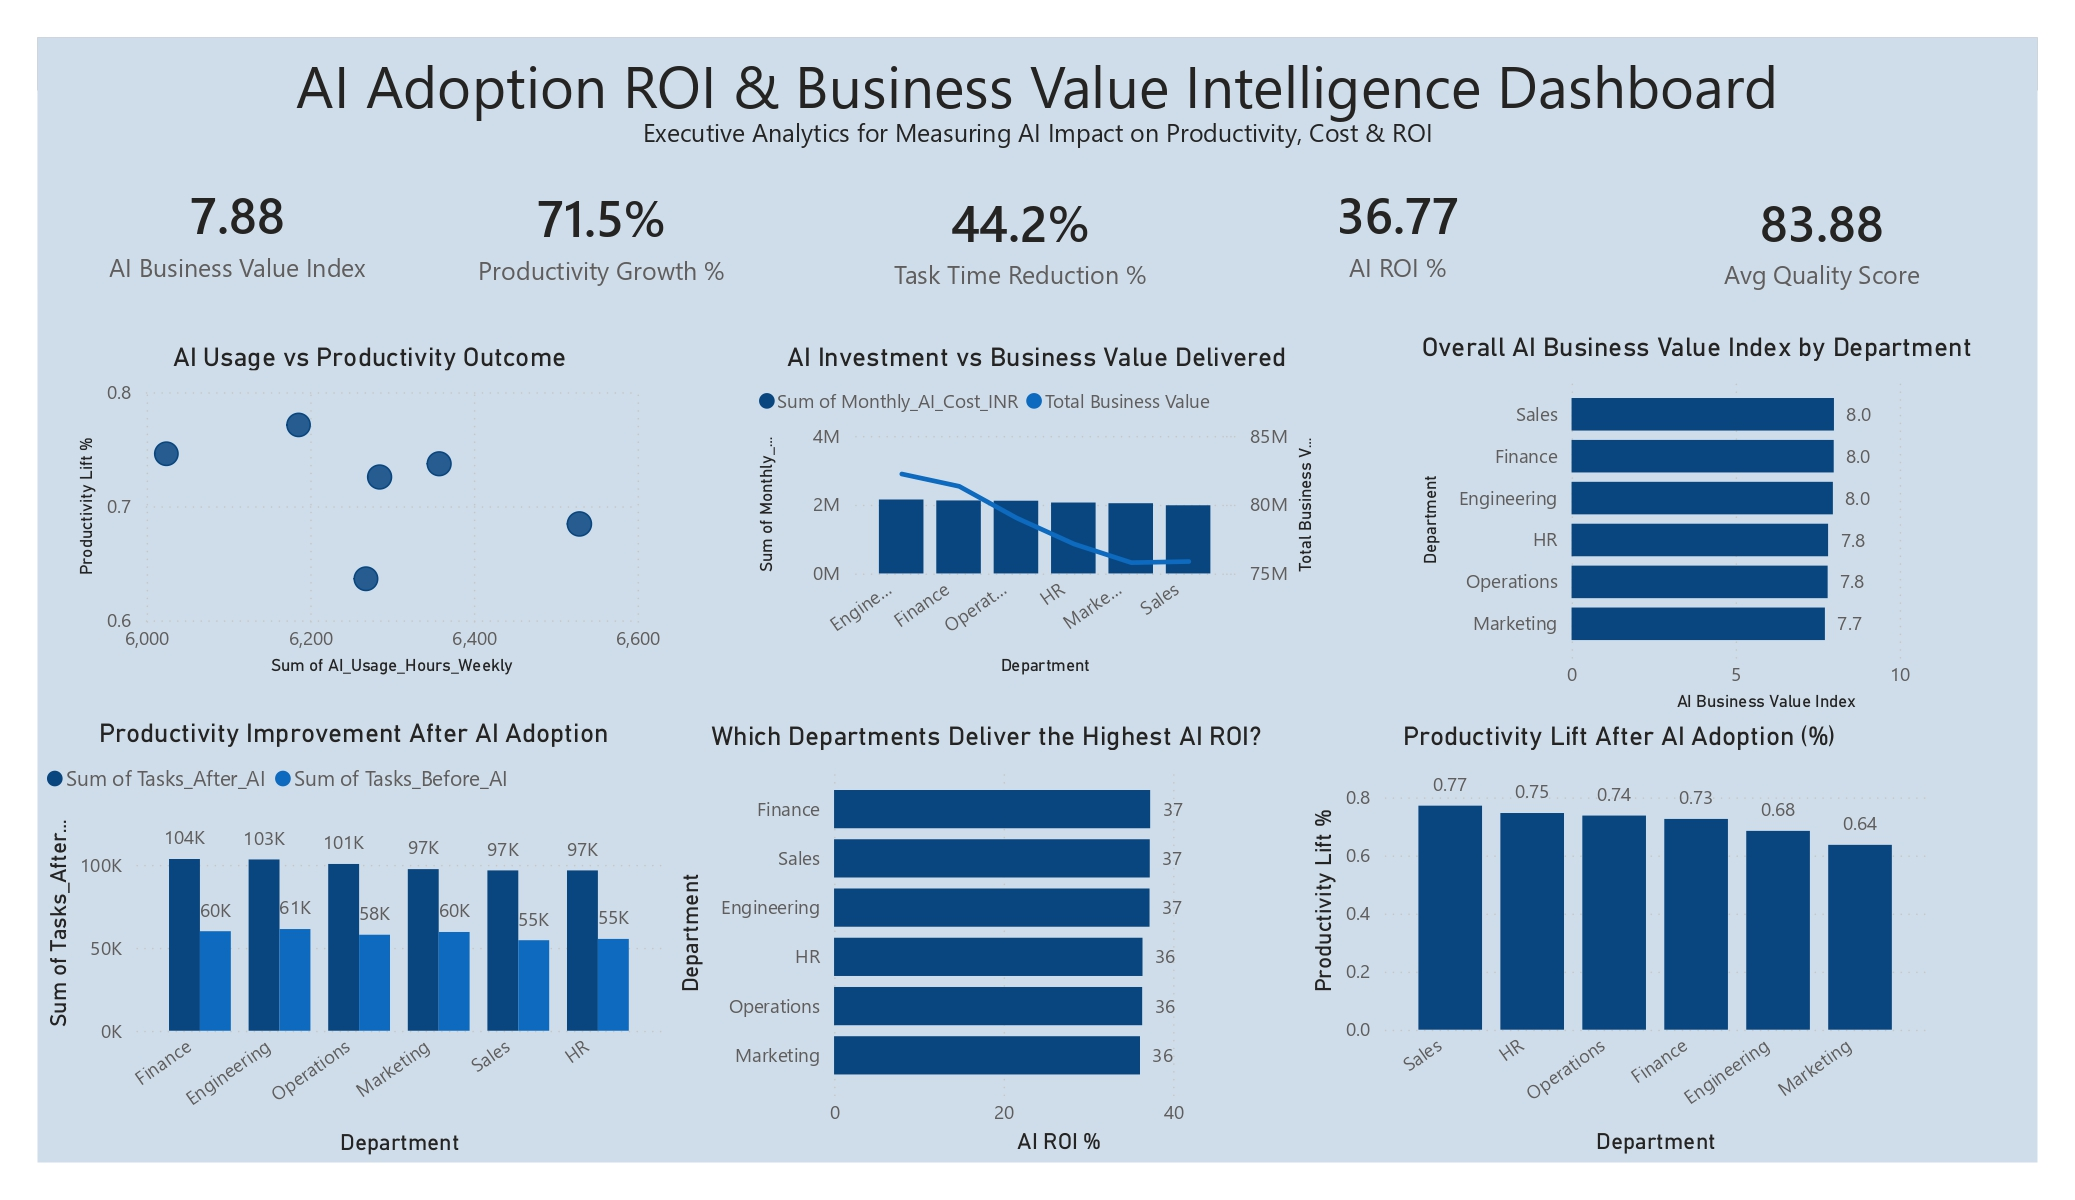

The dashboard page shown, as its layout file describes it:
{"tool":"powerbi","page":{"name":"Page 1","canvas":[1280,720],"ordinal":0},"visuals":[{"type":"cardVisual","fields":{"Data":["Sheet1.AI Business Value Index"]},"box":[12.1,60.3,232.8,129.1],"z":0},{"type":"cardVisual","fields":{"Data":["Sheet1.Productivity Growth %"]},"box":[244.9,61.5,232.8,129.1],"z":1000},{"type":"cardVisual","fields":{"Data":["Sheet1.Task Time Reduction %"]},"box":[511.5,65.1,234,129.1],"z":2000},{"type":"cardVisual","fields":{"Data":["Sheet1.AI ROI %"]},"box":[774.5,60.3,191.8,129.1],"z":3000},{"type":"cardVisual","fields":{"Data":["Sheet1.Avg Quality Score"]},"box":[1042.4,65.1,200.3,129.1],"z":4000},{"type":"clusteredColumnChart","title":"Productivity Improvement After AI Adoption","fields":{"Category":["Sheet1.Department"],"Y":["Sum(Sheet1.Tasks_After_AI)","Sum(Sheet1.Tasks_Before_AI)"]},"box":[0,435,404.8,285.4],"z":5000},{"type":"barChart","title":"Which Departments Deliver the Highest AI ROI?","fields":{"Category":["Sheet1.Department"],"Y":["Sheet1.AI ROI %"]},"box":[404.8,436.6,404.8,283.7],"z":6000},{"type":"columnChart","title":"Productivity Lift After AI Adoption (%)","fields":{"Y":["Sheet1.Productivity Lift %"],"Category":["Sheet1.Department"]},"box":[809.5,436.6,404.8,283.7],"z":7000},{"type":"scatterChart","title":"AI Usage vs Productivity Outcome","fields":{"X":["Sum(Sheet1.AI_Usage_Hours_Weekly)"],"Y":["Sheet1.Productivity Lift %"],"Size":["CountNonNull(Sheet1.Employee_ID)"],"Category":["Sheet1.Department"]},"box":[20.5,194.2,383.6,218.4],"z":8000},{"type":"lineClusteredColumnComboChart","title":"AI Investment vs Business Value Delivered","fields":{"Category":["Sheet1.Department"],"Y":["Sum(Sheet1.Monthly_AI_Cost_INR)"],"Y2":["Sheet1.Total Business Value"]},"box":[456,194.2,366.8,218.4],"z":9000},{"type":"barChart","title":"Overall AI Business Value Index by Department","fields":{"Category":["Sheet1.Department"],"Y":["Sheet1.AI Business Value Index"]},"box":[880.7,188.2,361.9,247.3],"z":10000},{"type":"textbox","box":[0,0,1280,89.3],"z":11000},{"type":"textbox","box":[0,44.6,1280,80.8],"z":11001}]}

Visuals, with their boxes on the page's 1280x720 design canvas (x1, y1, x2, y2). These are canvas units, not pixel positions in the 2075x1200 screenshot, which may show the page scaled, cropped or inside an application window:
cardVisual - Sheet1.AI Business Value Index: box=[12, 60, 245, 189]
cardVisual - Sheet1.Productivity Growth %: box=[245, 62, 478, 191]
cardVisual - Sheet1.Task Time Reduction %: box=[512, 65, 746, 194]
cardVisual - Sheet1.AI ROI %: box=[774, 60, 966, 189]
cardVisual - Sheet1.Avg Quality Score: box=[1042, 65, 1243, 194]
"Productivity Improvement After AI Adoption" clusteredColumnChart: box=[0, 435, 405, 720]
"Which Departments Deliver the Highest AI ROI?" barChart: box=[405, 437, 810, 720]
"Productivity Lift After AI Adoption (%)" columnChart: box=[810, 437, 1214, 720]
"AI Usage vs Productivity Outcome" scatterChart: box=[20, 194, 404, 413]
"AI Investment vs Business Value Delivered" lineClusteredColumnComboChart: box=[456, 194, 823, 413]
"Overall AI Business Value Index by Department" barChart: box=[881, 188, 1243, 436]
textbox: box=[0, 0, 1280, 89]
textbox: box=[0, 45, 1280, 125]
